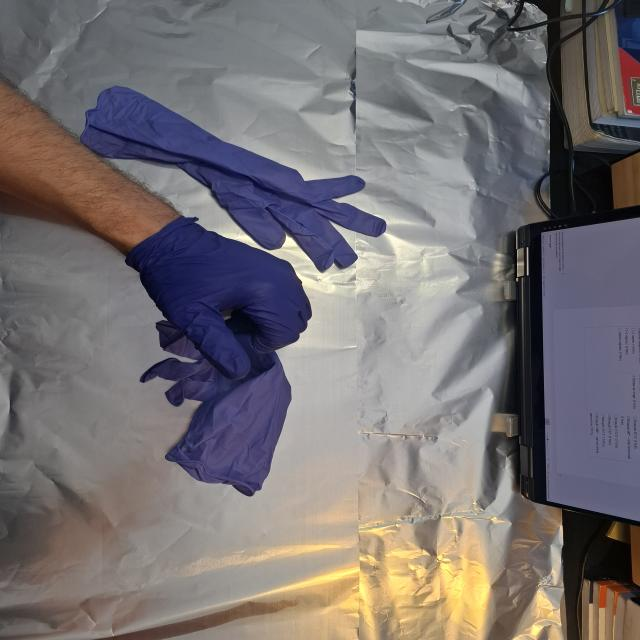glove_on: (128, 221, 316, 382)
